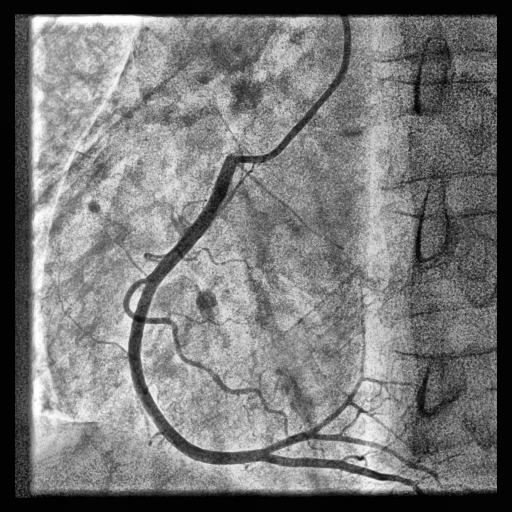pborca: (265, 377, 364, 452)
pda: (264, 455, 427, 497)
rca: (129, 156, 263, 465)
